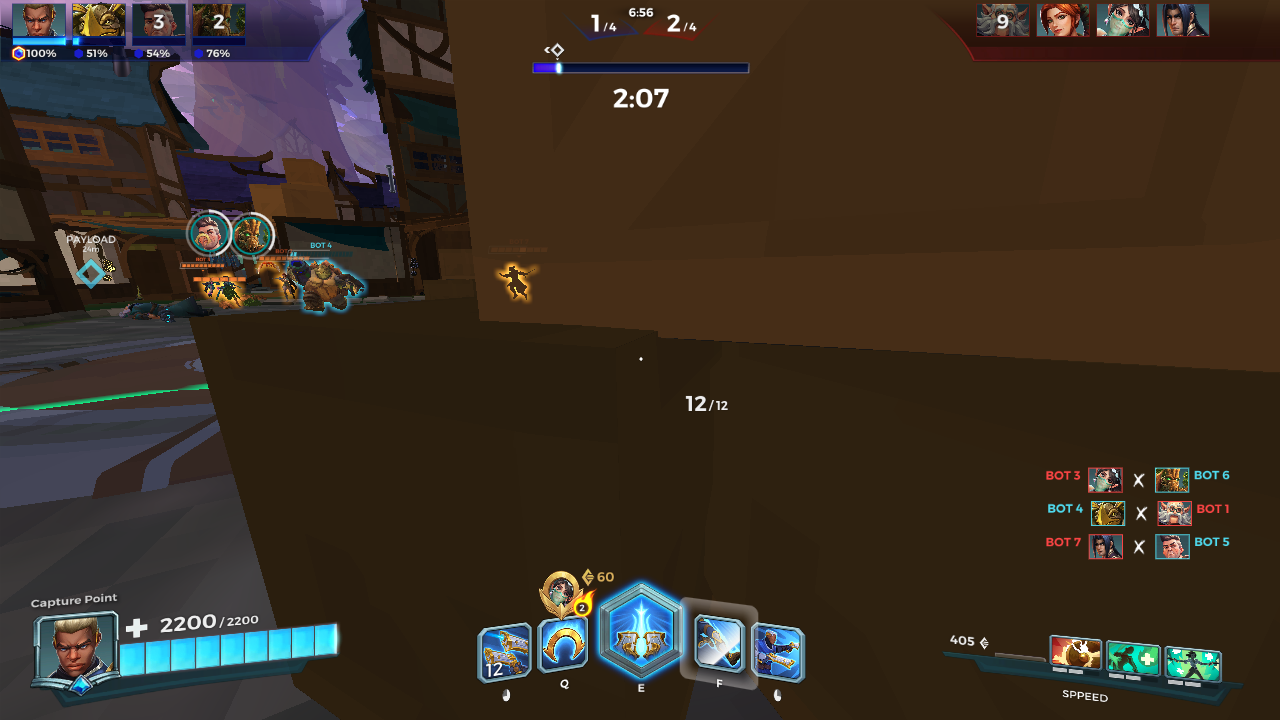model: (491, 260, 534, 305), (215, 273, 244, 308), (198, 267, 219, 304), (274, 268, 296, 301)
